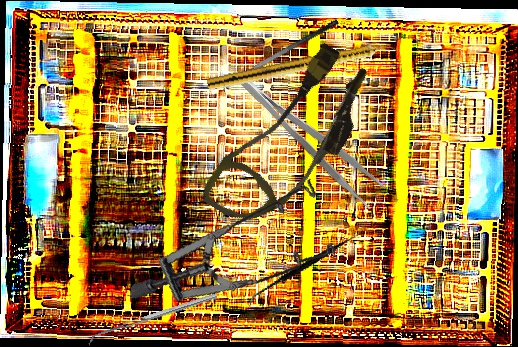Cannula: (197, 29, 385, 249)
Dressing Forceps: (233, 60, 390, 212)
Handpiece: (206, 38, 398, 95)
Spatula Surgical: (247, 195, 366, 338), (218, 18, 345, 97), (85, 293, 220, 346)
Speculum: (128, 146, 350, 339)
